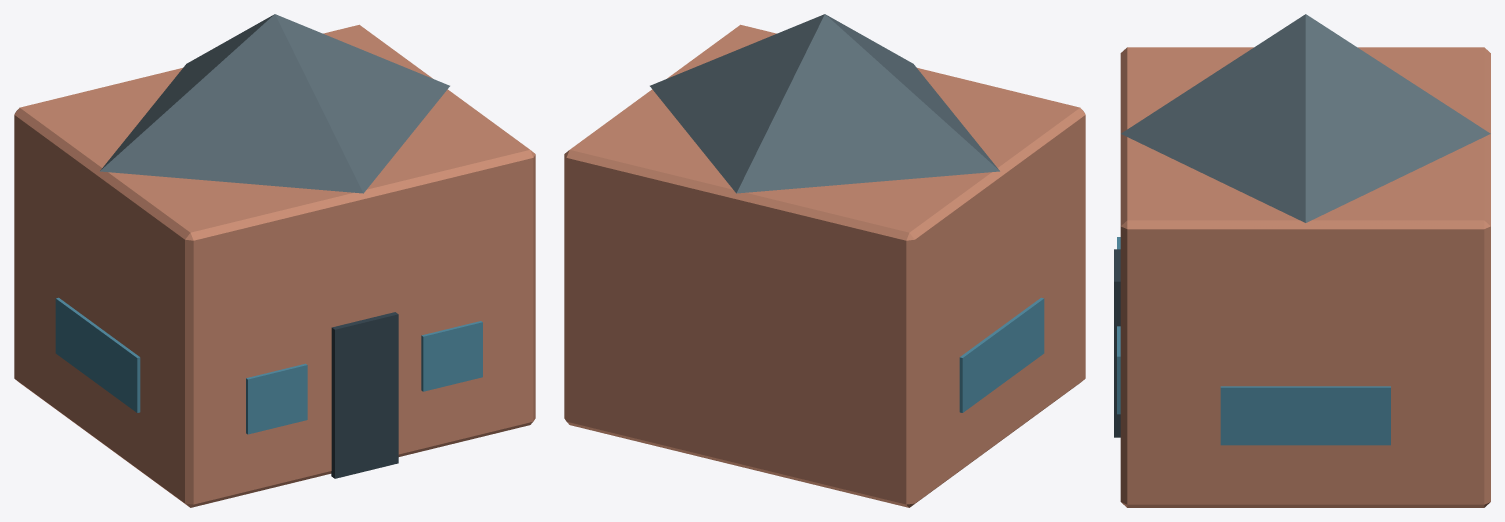
The model's file is residence-high.glb.
3 renders of one model, left to right at view 1: azimuth 30°, elevation 25°; view 2: azimuth 150°, elevation 25°; view 3: azimuth 270°, elevation 25°, orthographic. The views are drawn at different scales.
Visible parts, largest first — view 1: Residence_Body, Roof, Door, Window_S_0_-1, Window_F_0_0, Window_F_0_2; view 2: Residence_Body, Roof, Window_S_0_-1; view 3: Residence_Body, Roof, Window_S_0_1, Door.
Part boxes in pixels (box(x1,y1,x2,y2)): Residence_Body: box(14, 24, 535, 507); Roof: box(100, 14, 449, 193); Door: box(331, 312, 398, 478); Window_S_0_-1: box(55, 297, 140, 412); Window_F_0_0: box(246, 363, 307, 434); Window_F_0_2: box(421, 321, 482, 391); Residence_Body: box(564, 24, 1085, 507); Roof: box(650, 14, 999, 193); Window_S_0_-1: box(959, 297, 1044, 412); Residence_Body: box(1120, 47, 1490, 507); Roof: box(1121, 14, 1490, 222); Window_S_0_1: box(1220, 386, 1390, 445); Door: box(1114, 249, 1120, 437).
Size of the model in its own units: 3.26 by 3.4 by 2.85.
